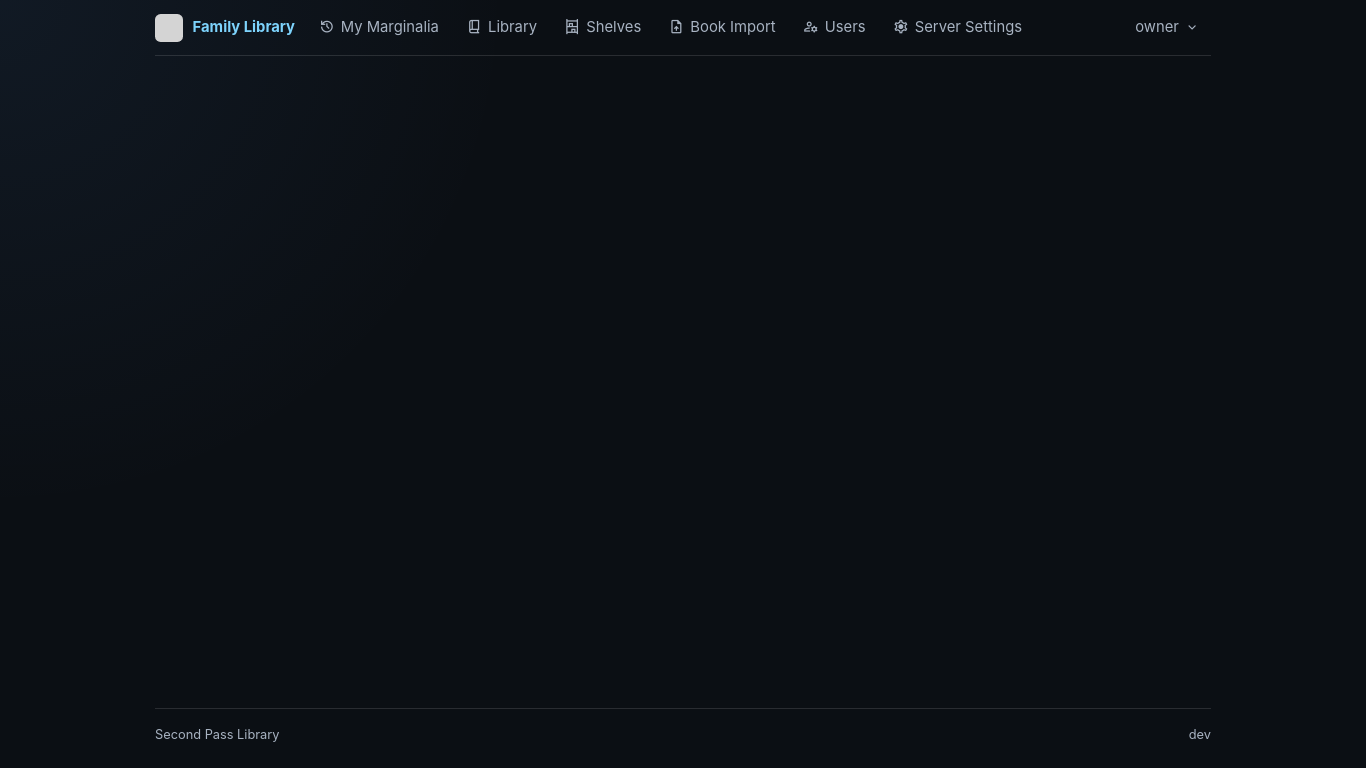
Test case: AppOrchestrator logout › keeps the authenticated shell and reports when logout fails
Click the button with aria-label "Open account menu for owner".
click(1167, 28)  # box [1124,8,1211,47]
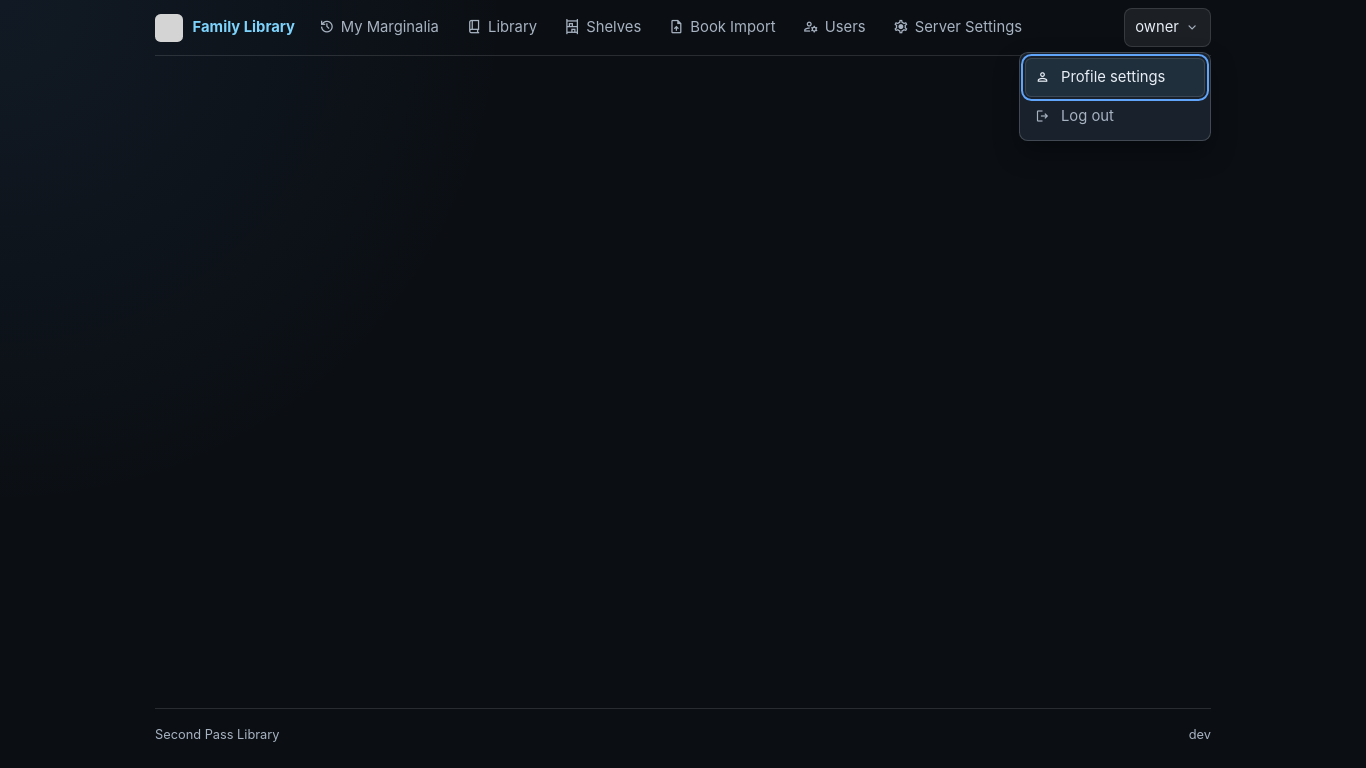
Click the menu item "Log out".
click(1115, 116)  # box [1025,97,1205,135]
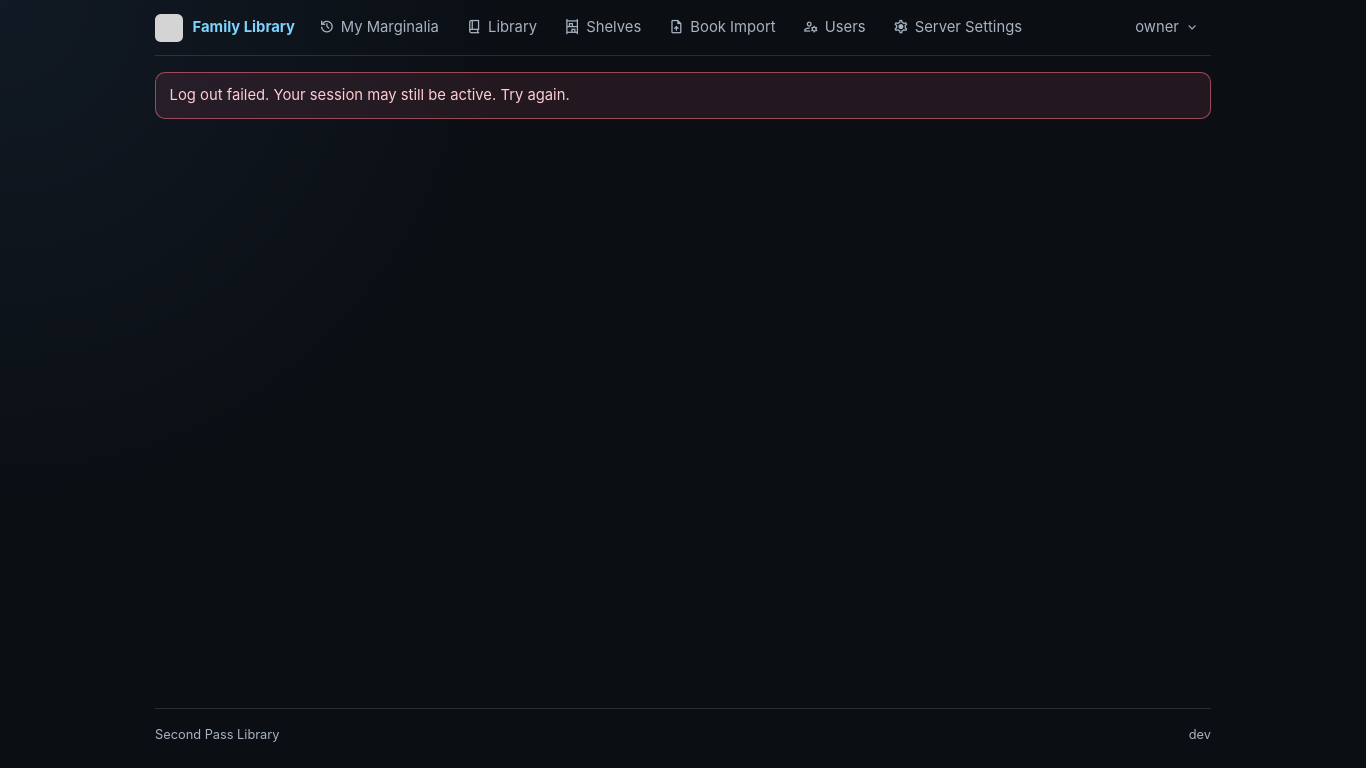
Expected: the text "Family Library" is shown, [193,16,295,39]
Result: the text "Log out failed. Your session may still be active. Try again." is shown at [155,72,1211,119]
